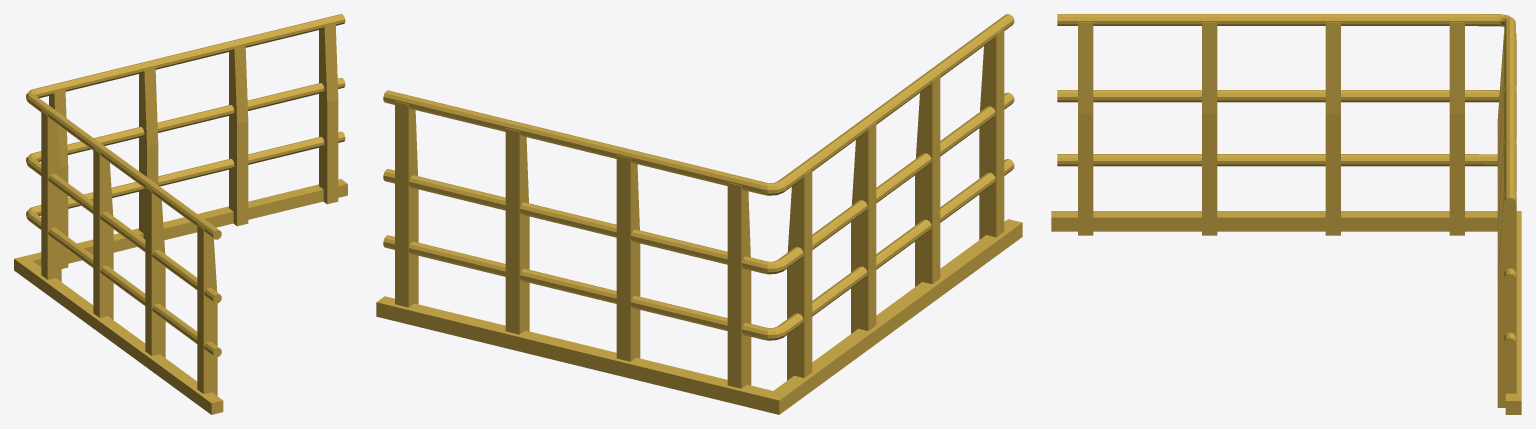
File: zaborg.fbx
3 renders of one model, left to right at view 1: azimuth 30°, elevation 25°; view 2: azimuth 150°, elevation 25°; view 3: azimuth 270°, elevation 25°, orthographic. The views are drawn at different scales.
Parts seen in each view (by area): view 1: zaborg; view 2: zaborg; view 3: zaborg.
Part boxes in pixels (x1,y1,x2,y2): zaborg: (14, 14, 347, 414); zaborg: (376, 14, 1022, 414); zaborg: (1051, 14, 1521, 414).
Size of the model in its own units: 18.39 by 9.73 by 19.22.
Materials: 1 (1 with a texture image).
